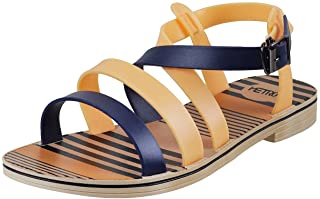shoes: (1, 1, 319, 199)
